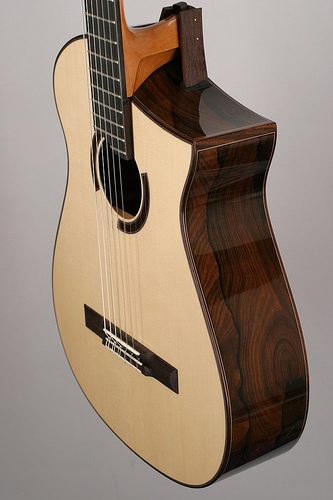guitar: (45, 1, 309, 493)
